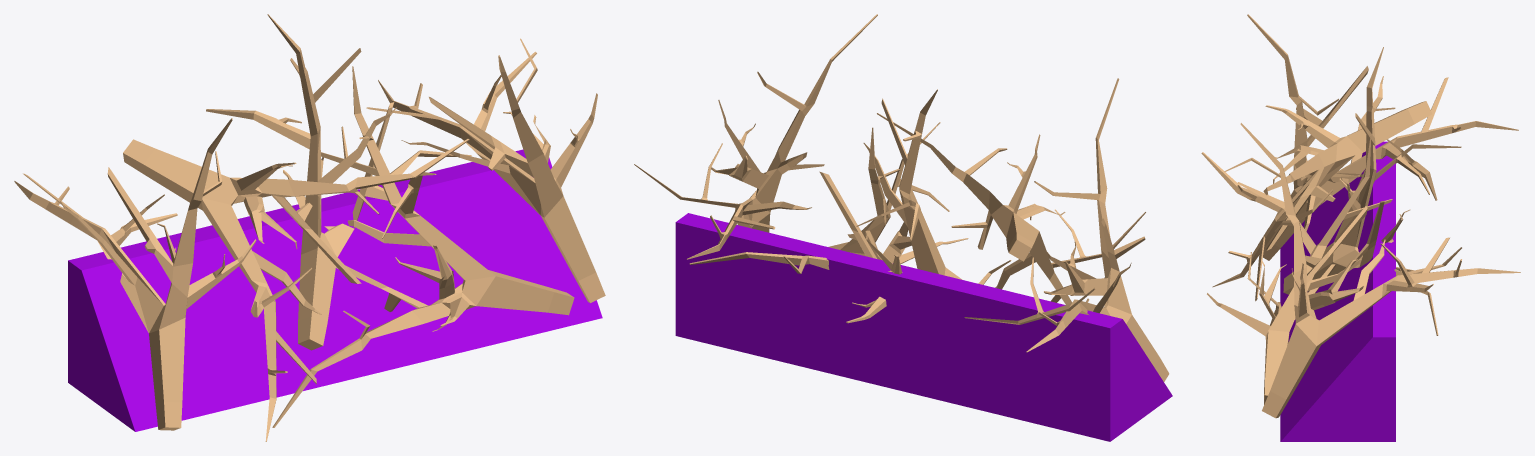
The model's file is Musor.fbx.
3 renders of one model, left to right at view 1: azimuth 30°, elevation 25°; view 2: azimuth 150°, elevation 25°; view 3: azimuth 270°, elevation 25°, orthographic. The views are drawn at different scales.
Parts seen in each view (by area): view 1: Куб, Cube.003, Cube.000, Cube.002, Cube.001, Cube.004; view 2: Куб, Cube.000, Cube.004, Cube.001, Cube.003, Cube.002; view 3: Куб, Cube.001, Cube.003, Cube.000, Cube.002, Cube.004.
Part boxes in pixels (x1=…): Куб: x1=68, y1=149, x2=602, y2=431; Cube.003: x1=123, y1=139, x2=469, y2=441; Cube.000: x1=14, y1=118, x2=256, y2=430; Cube.002: x1=272, y1=66, x2=574, y2=427; Cube.001: x1=366, y1=38, x2=605, y2=302; Cube.004: x1=206, y1=14, x2=471, y2=350; Куб: x1=675, y1=213, x2=1172, y2=441; Cube.000: x1=964, y1=78, x2=1169, y2=381; Cube.004: x1=689, y1=89, x2=962, y2=323; Cube.001: x1=634, y1=14, x2=877, y2=259; Cube.003: x1=877, y1=113, x2=1145, y2=304; Cube.002: x1=828, y1=122, x2=1011, y2=284; Куб: x1=1280, y1=141, x2=1395, y2=441; Cube.001: x1=1240, y1=123, x2=1520, y2=418; Cube.003: x1=1201, y1=101, x2=1432, y2=301; Cube.000: x1=1247, y1=14, x2=1518, y2=260; Cube.002: x1=1207, y1=135, x2=1392, y2=404; Cube.004: x1=1283, y1=47, x2=1461, y2=335.
Bounding box in the file's own units: 866 × 581 × 552.
